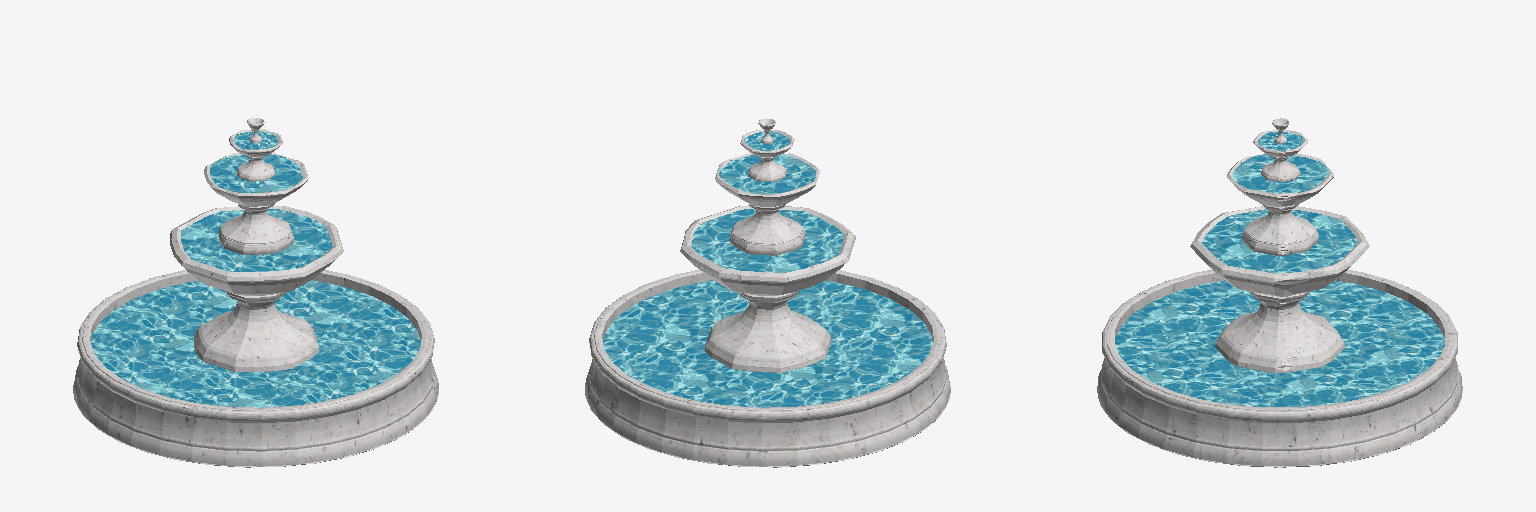
The picture shows the model from 3 angles: view 1: azimuth 30°, elevation 25°; view 2: azimuth 150°, elevation 25°; view 3: azimuth 270°, elevation 25°; orthographic projection.
Visible parts, largest first — view 1: Circle, Circle.001, NurbsPath_Mesh, Circle.002, Circle.003, Circle.004; view 2: Circle, Circle.001, NurbsPath_Mesh, Circle.002, Circle.003, Circle.004; view 3: Circle, Circle.001, NurbsPath_Mesh, Circle.002, Circle.003, Circle.004.
Boxes of the visible parts, box(x1,y1,x2,y2) form: Circle: box(73, 270, 438, 467); Circle.001: box(91, 280, 420, 407); NurbsPath_Mesh: box(170, 118, 343, 371); Circle.002: box(181, 209, 332, 271); Circle.003: box(210, 154, 302, 192); Circle.004: box(234, 131, 277, 149); Circle: box(585, 270, 950, 467); Circle.001: box(603, 280, 932, 407); NurbsPath_Mesh: box(680, 119, 855, 372); Circle.002: box(691, 209, 844, 272); Circle.003: box(719, 154, 815, 193); Circle.004: box(744, 131, 790, 150); Circle: box(1097, 270, 1462, 467); Circle.001: box(1115, 280, 1444, 406); NurbsPath_Mesh: box(1190, 118, 1369, 372); Circle.002: box(1202, 209, 1357, 273); Circle.003: box(1232, 154, 1328, 193); Circle.004: box(1258, 132, 1303, 150).
Size of the model in its own units: 1 by 0.8111 by 1.
Materials: 2 (2 with a texture image).